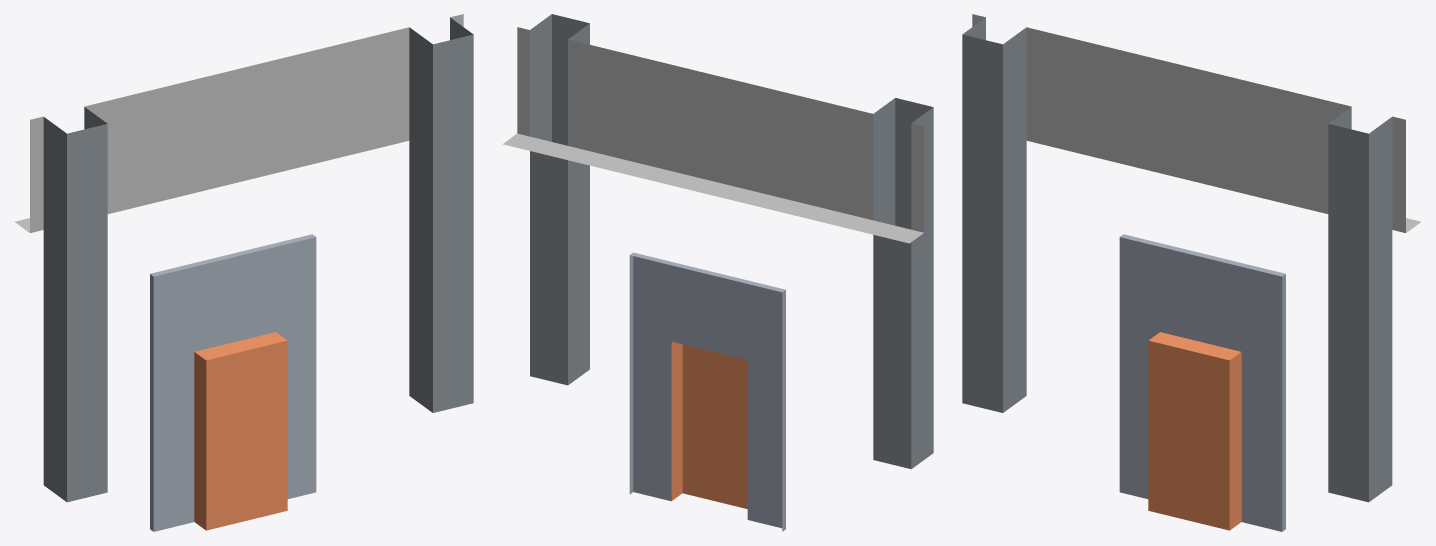
Rendered from cell_82.obj.
3 renders of one model, left to right at view 1: azimuth 30°, elevation 25°; view 2: azimuth 150°, elevation 25°; view 3: azimuth 330°, elevation 25°, orthographic. The views are drawn at different scales.
Bounding box in the file's own units: 1 × 1 × 0.1562.
